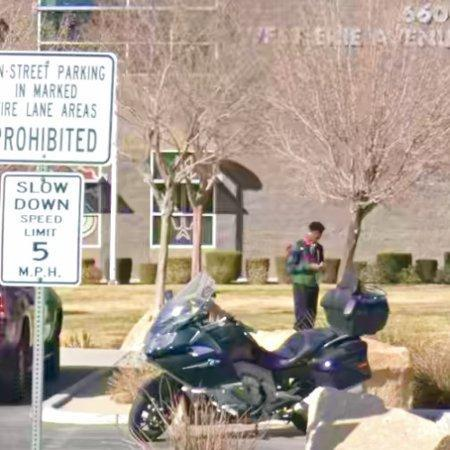motorcycles: (130, 275, 390, 441)
